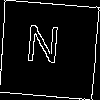N: (24, 24, 61, 73)
